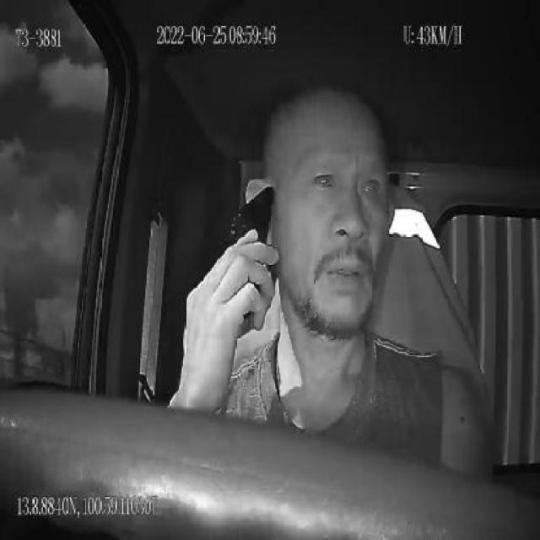phone: (228, 184, 276, 342)
